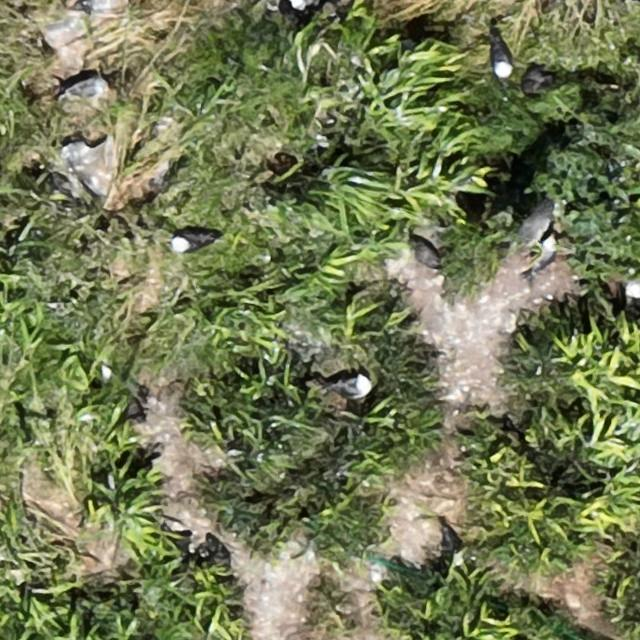umineko: (533, 235, 559, 273), (333, 374, 371, 396), (66, 79, 106, 99), (493, 41, 513, 79), (173, 234, 206, 252), (625, 273, 639, 297)
